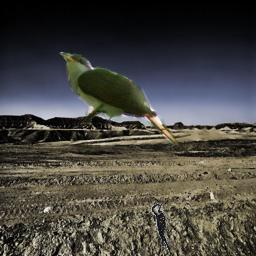Cuckoo: (58, 52, 181, 146)
Woodpecker: (151, 201, 178, 252)
